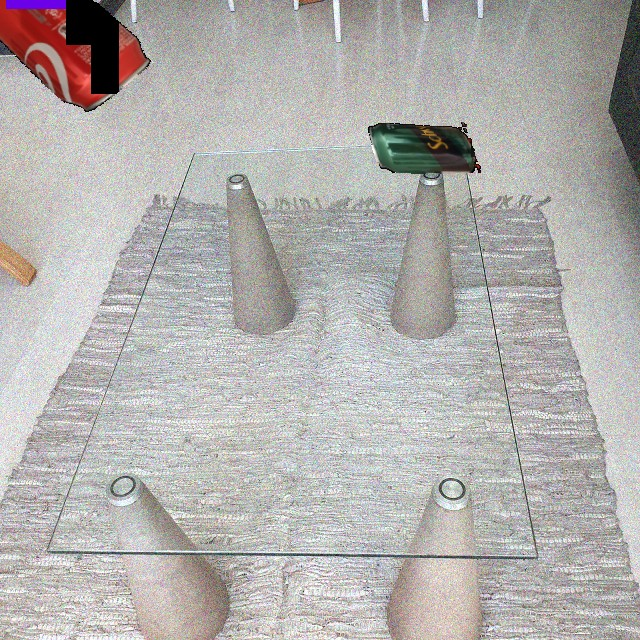coca cola: (0, 0, 173, 134)
schweppes: (365, 118, 482, 175)
